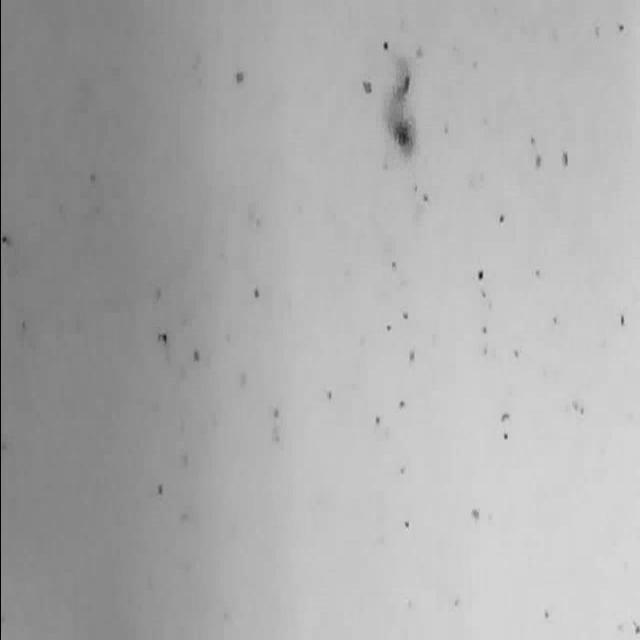larvas: (388, 58, 417, 153)
